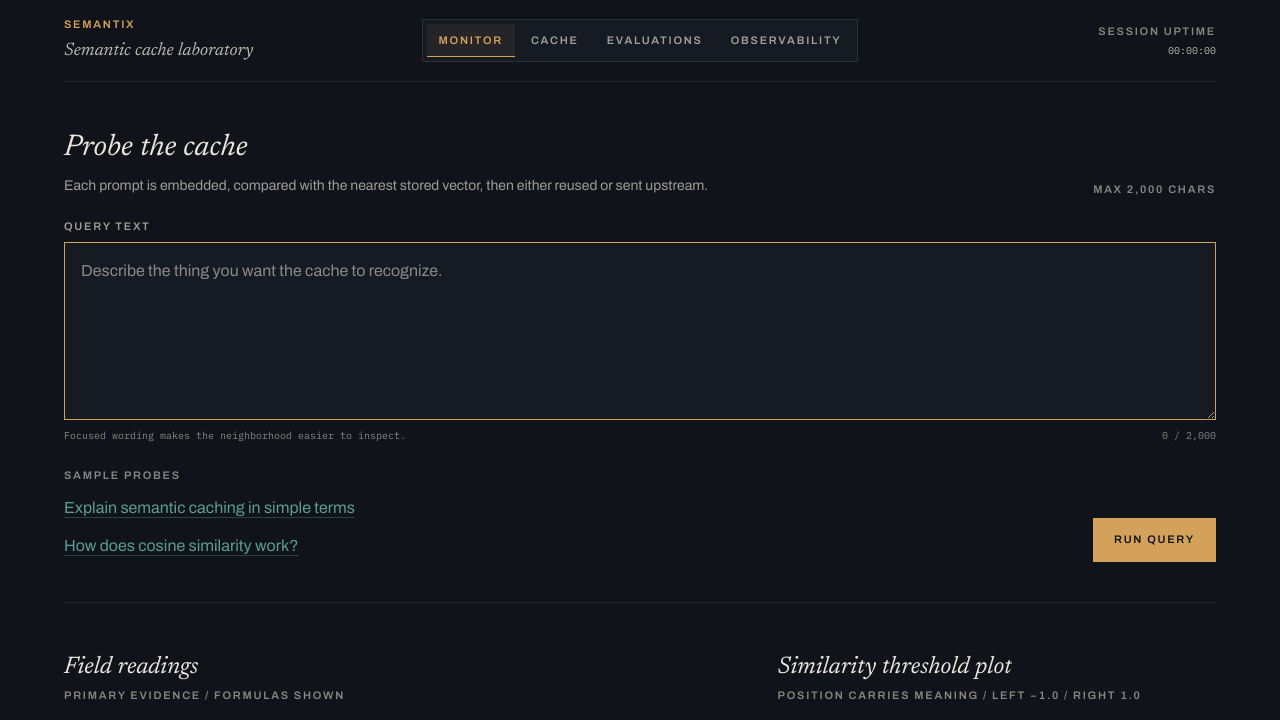
application routing › moves focus to main after link navigation
Expected: the heading "Probe the cache" is shown, [64,132,248,162]
Click the link "Cache": (555,40) [531,34,579,46]
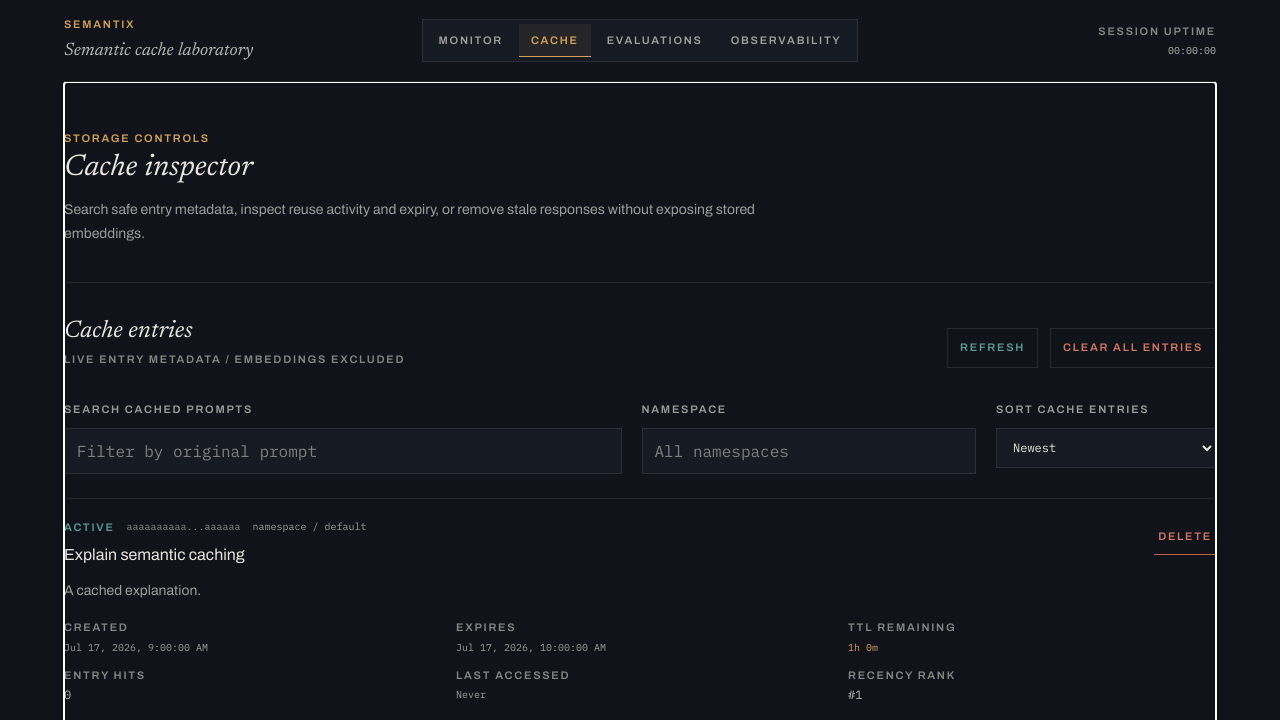
Result: the heading "Cache inspector" is shown at [64,153,253,183]
